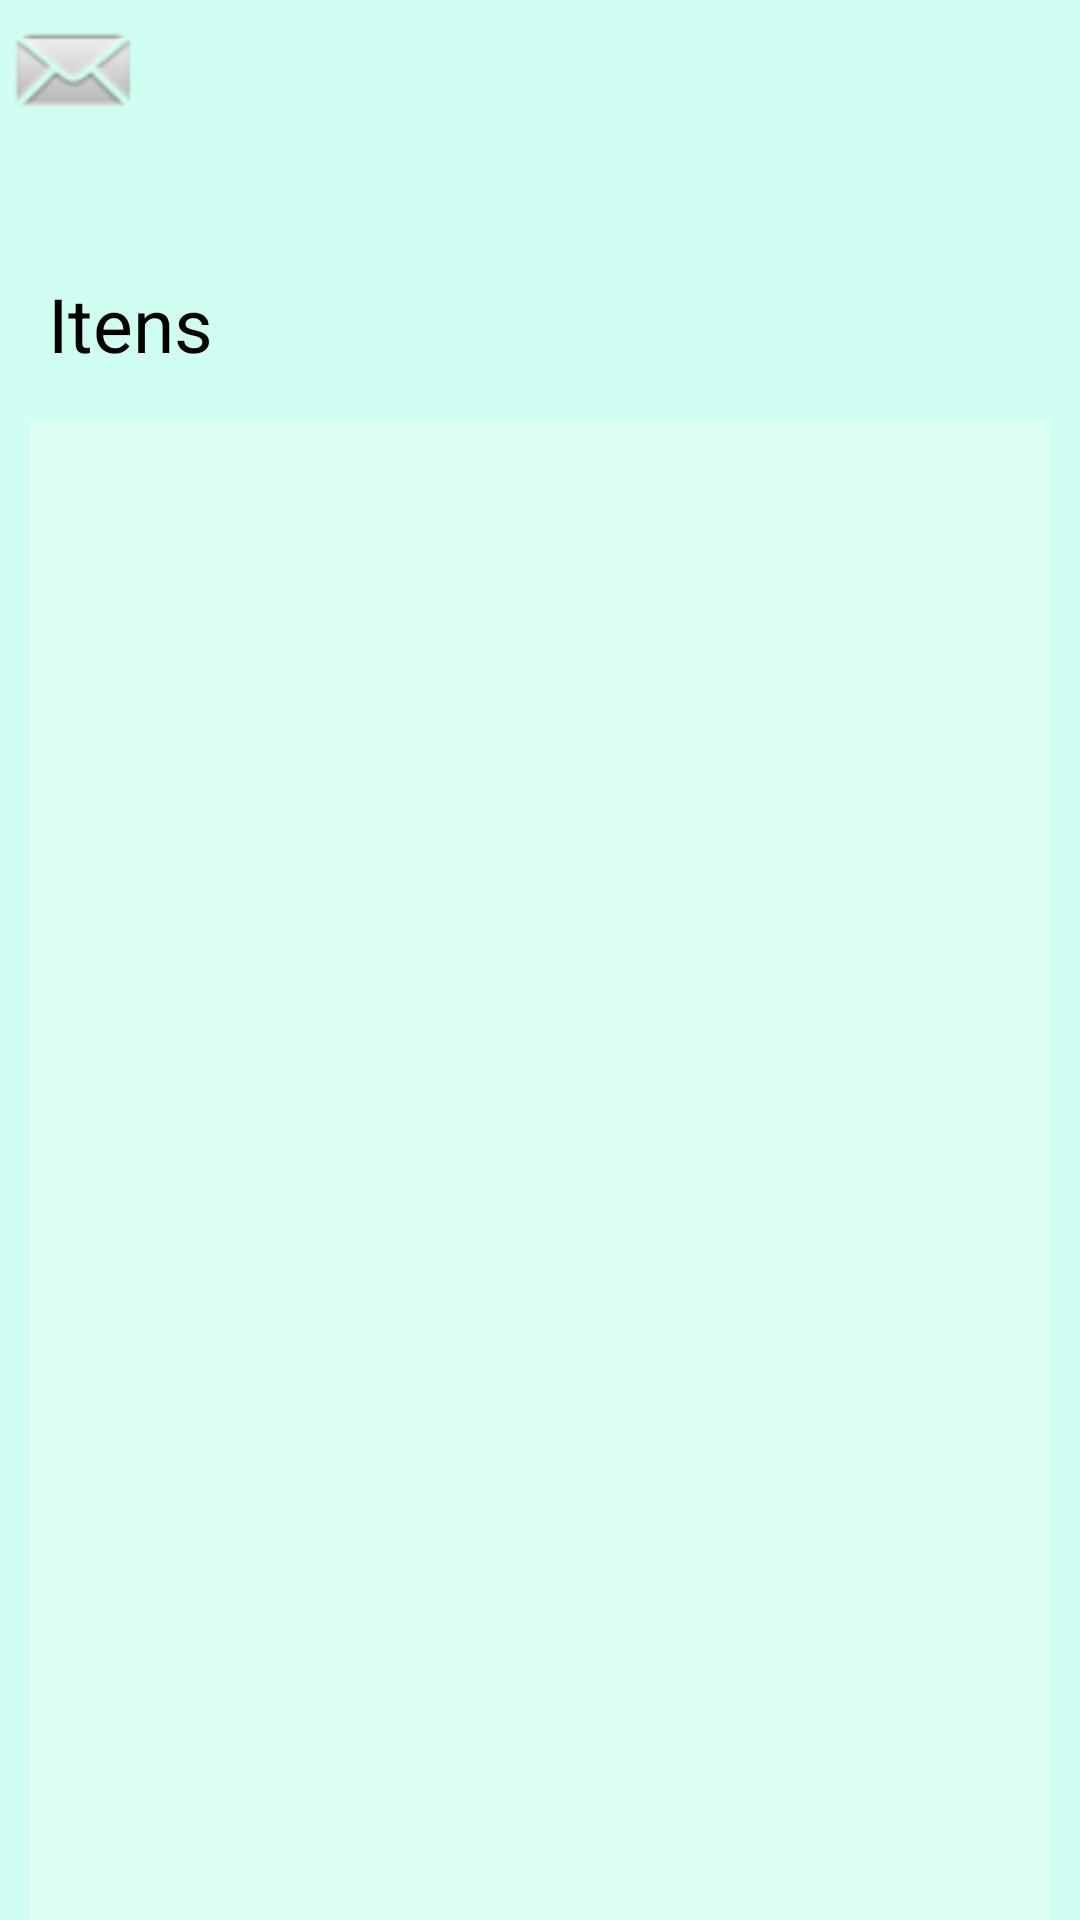

Icons on this 1080*1920 Android screen, each with its box as (x1, y1, x2, y2):
sym action email: (16, 34, 130, 106)
